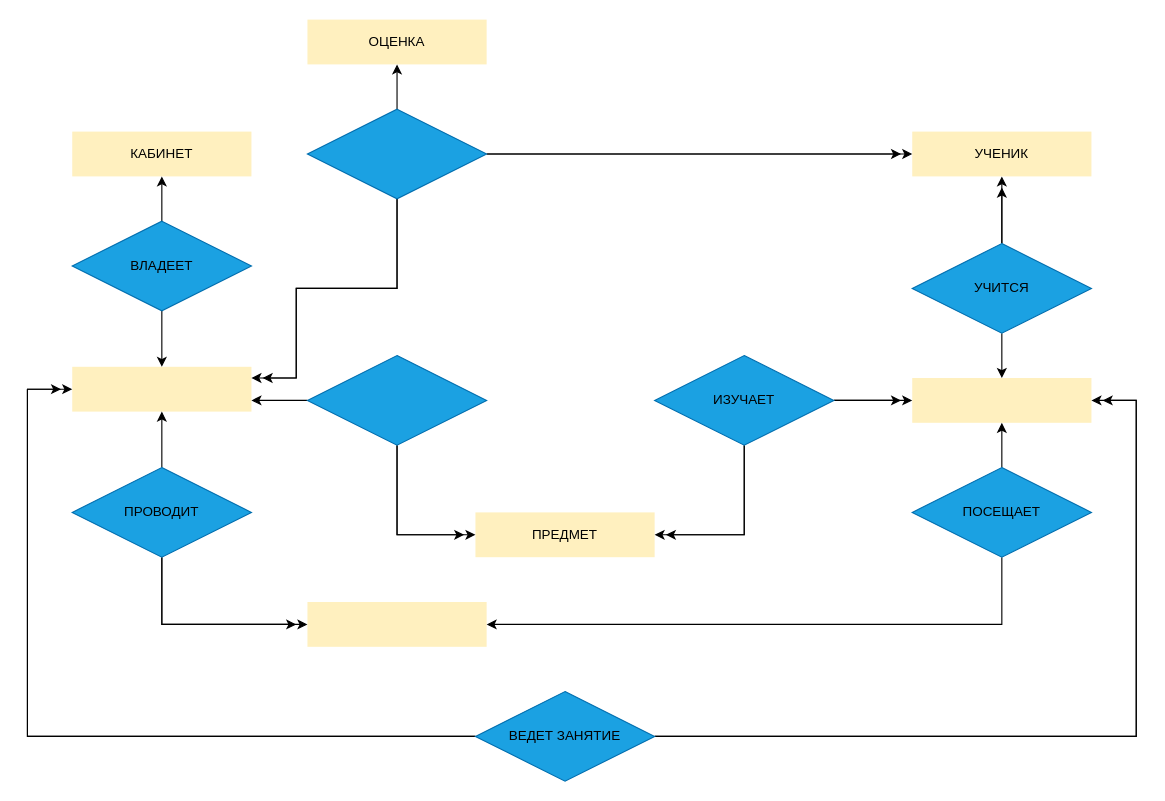
This 1165x801 diagram has some shape labels left out. The shapes that lost their labels are listed below. From the top down, each one's box as (x1, y1, x2, y2) in pixels, then its label:
(306, 108, 487, 199): ОЦЕНИВАЕТ
(72, 366, 251, 411): УЧИТЕЛЬ
(306, 354, 487, 445): ПРЕПОДАЕТ
(912, 377, 1091, 422): КЛАСС
(307, 601, 486, 646): УРОК
